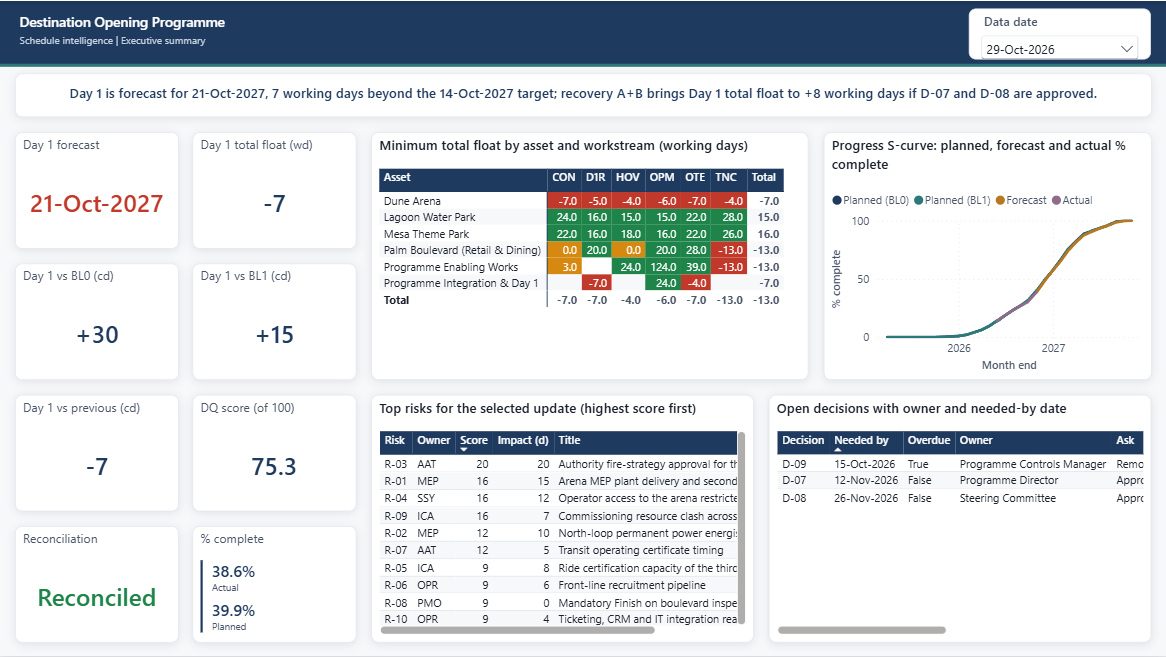

What the dashboard file says about the page in this screenshot:
{"tool":"powerbi","page":{"name":"Executive summary","canvas":[1280,720],"ordinal":0},"visuals":[{"type":"textbox","box":[16,8,1032,56],"z":1000},{"type":"slicer","fields":{"Values":["dim_snapshot.data_date"]},"box":[1064,8,200,56],"z":2000},{"type":"card","fields":{"Values":["_Measures.Title - Executive summary"]},"box":[16,80,1248,48],"z":3000},{"type":"card","title":"Day 1 forecast","fields":{"Values":["_Measures.Day 1 forecast"]},"box":[16,144,180,128],"z":4000},{"type":"card","title":"Day 1 total float (wd)","fields":{"Values":["_Measures.Day 1 total float"]},"box":[212,144,180,128],"z":5000},{"type":"card","title":"Day 1 vs BL0 (cd)","fields":{"Values":["_Measures.Day 1 variance vs BL0"]},"box":[16,288,180,128],"z":6000},{"type":"card","title":"Day 1 vs BL1 (cd)","fields":{"Values":["_Measures.Day 1 variance vs BL1"]},"box":[212,288,180,128],"z":7000},{"type":"card","title":"Day 1 vs previous (cd)","fields":{"Values":["_Measures.Day 1 movement vs previous period"]},"box":[16,432,180,128],"z":8000},{"type":"card","title":"DQ score (of 100)","fields":{"Values":["_Measures.DQ score"]},"box":[212,432,180,128],"z":9000},{"type":"card","title":"Reconciliation","fields":{"Values":["_Measures.Reconciliation status"]},"box":[16,576,180,128],"z":10000},{"type":"multiRowCard","title":"% complete","fields":{"Values":["_Measures.Weighted % complete (actual)","_Measures.Planned % complete"]},"box":[212,576,180,128],"z":11000},{"type":"pivotTable","title":"Minimum total float by asset and workstream (working days)","fields":{"Rows":["dim_activity.asset_name"],"Columns":["dim_activity.workstream_code"],"Values":["_Measures.Total float (min)"]},"box":[408,144,480,272],"z":12000},{"type":"lineChart","title":"Progress S-curve: planned, forecast and actual % complete","fields":{"Category":["fact_s_curve.date"],"Y":["Sum(fact_s_curve.planned_bl0)","Sum(fact_s_curve.planned_bl1)","Sum(fact_s_curve.forecast)","Sum(fact_s_curve.actual)"]},"box":[904,144,360,272],"z":13000},{"type":"tableEx","title":"Top risks for the selected update (highest score first)","fields":{"Values":["fact_risk.risk_id","fact_risk.owner_code","fact_risk.score","fact_risk.schedule_impact_days","fact_risk.title"]},"box":[408,432,420,272],"z":14000},{"type":"tableEx","title":"Open decisions with owner and needed-by date","fields":{"Values":["fact_decision.decision_id","fact_decision.needed_by","fact_decision.overdue","fact_decision.owner","fact_decision.ask"]},"box":[844,432,420,272],"z":15000}]}

Visuals, with their boxes in screenshot pixels (x1, y1, x2, y2), scaled from the page's 1280x720 canvas onto the 1166x657 screenshot:
textbox: 15:7:955:58
slicer - dim_snapshot.data_date: 969:7:1151:58
card - _Measures.Title - Executive summary: 15:73:1151:117
"Day 1 forecast" card: 15:131:179:248
"Day 1 total float (wd)" card: 193:131:357:248
"Day 1 vs BL0 (cd)" card: 15:263:179:380
"Day 1 vs BL1 (cd)" card: 193:263:357:380
"Day 1 vs previous (cd)" card: 15:394:179:511
"DQ score (of 100)" card: 193:394:357:511
"Reconciliation" card: 15:526:179:642
"% complete" multiRowCard: 193:526:357:642
"Minimum total float by asset and workstream (working days)" pivotTable: 372:131:809:380
"Progress S-curve: planned, forecast and actual % complete" lineChart: 823:131:1151:380
"Top risks for the selected update (highest score first)" tableEx: 372:394:754:642
"Open decisions with owner and needed-by date" tableEx: 769:394:1151:642
